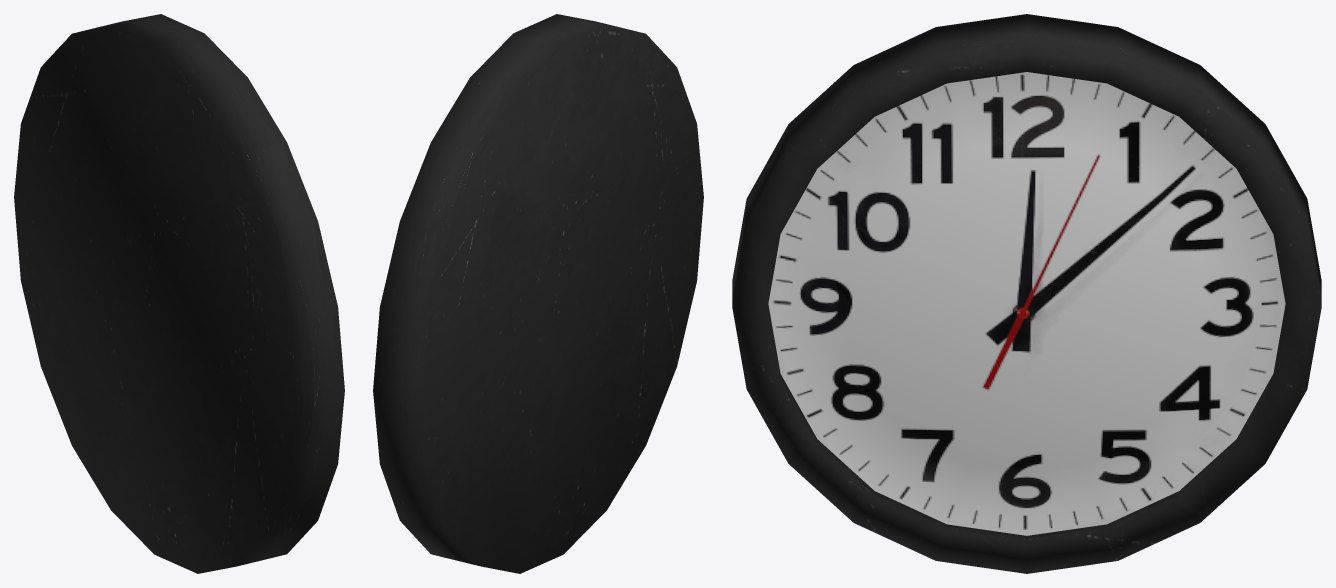
File: clock.fbx
The picture shows the model from 3 angles, left to right: view 1: azimuth 30°, elevation 25°; view 2: azimuth 150°, elevation 25°; view 3: azimuth 270°, elevation 25°; orthographic projection. The views are drawn at different scales.
Visible parts, largest first — view 1: pCylinder1; view 2: pCylinder1; view 3: pCylinder1.
Boxes of the visible parts, x1=… form: pCylinder1: x1=14, y1=14, x2=344, y2=573; pCylinder1: x1=373, y1=14, x2=703, y2=573; pCylinder1: x1=732, y1=14, x2=1321, y2=573.
Bounding box in the file's own units: 0.0444 × 0.3938 × 0.3938.
